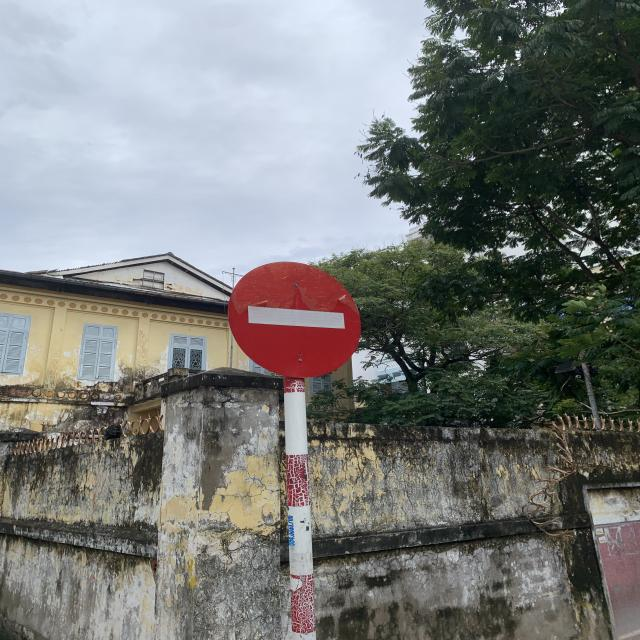Cam_Di_Nguoc_Chieu: (224, 260, 361, 379)
